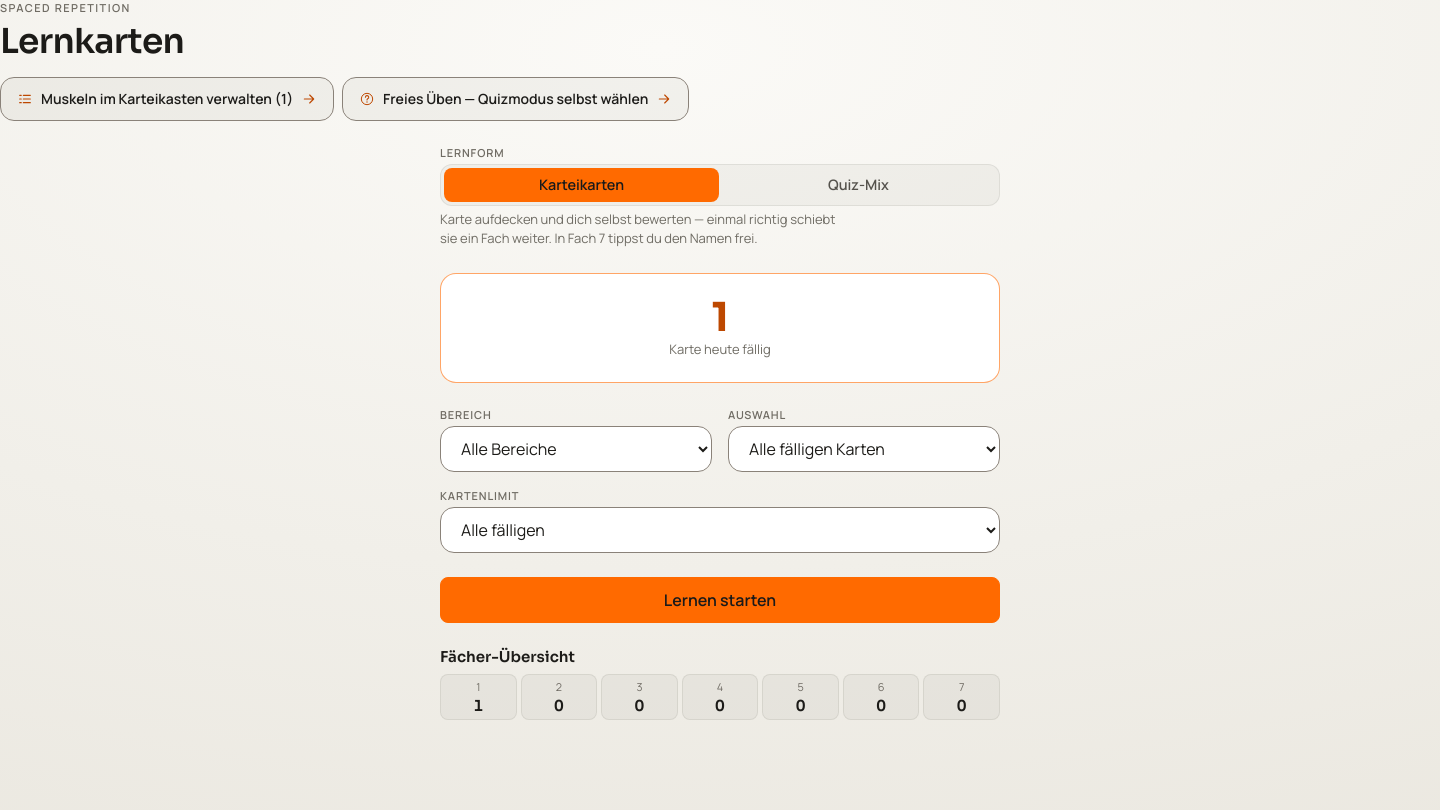
Test: Bild groß auf der Lernkarte › Vollansicht offen: eine Ziffer bewertet die Karte dahinter NICHT — nach dem Schließen wieder
Click the button "Lernen starten" at (720, 600), box [440,577,1000,623]
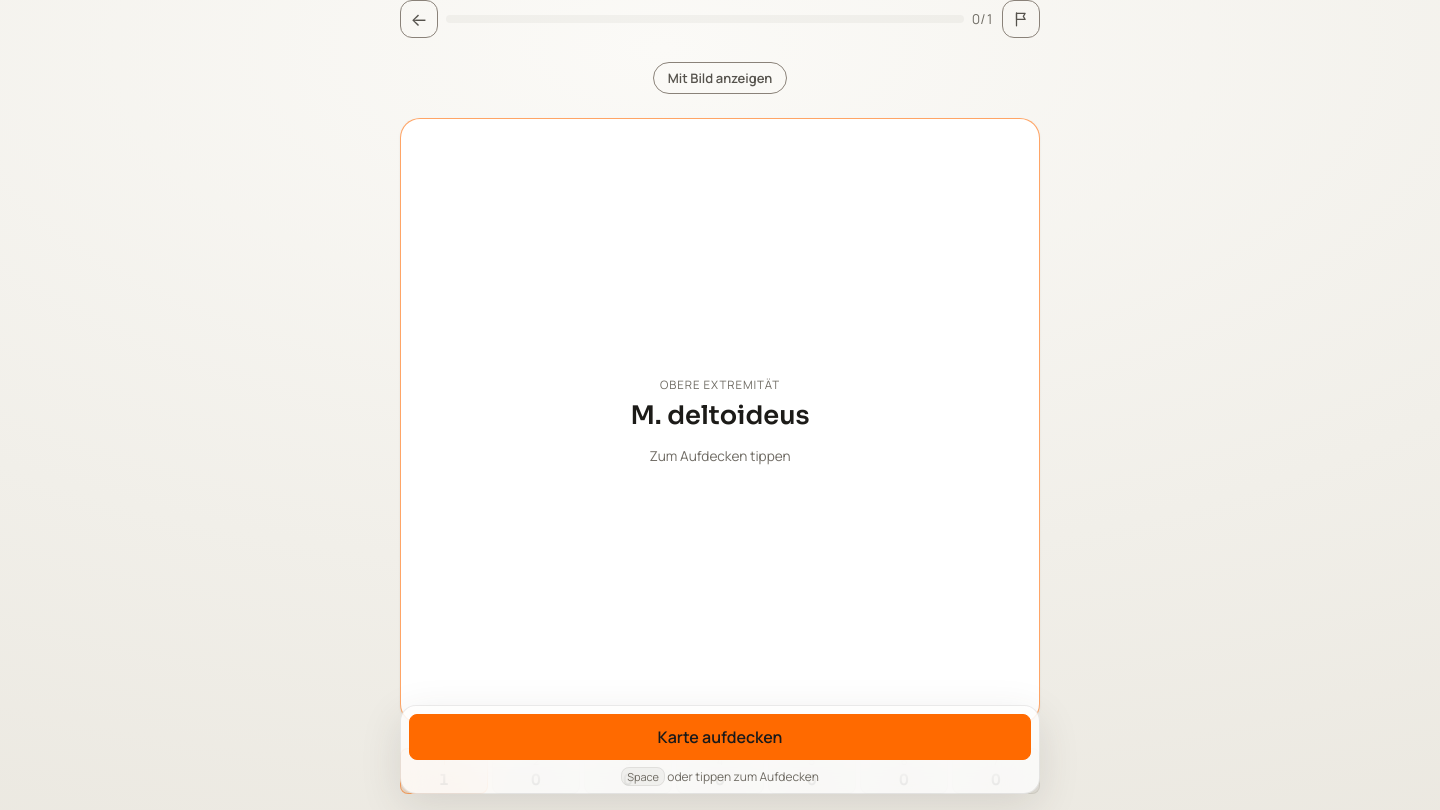
Click the button "Karte aufdecken" at (720, 737), box [409,714,1031,760]
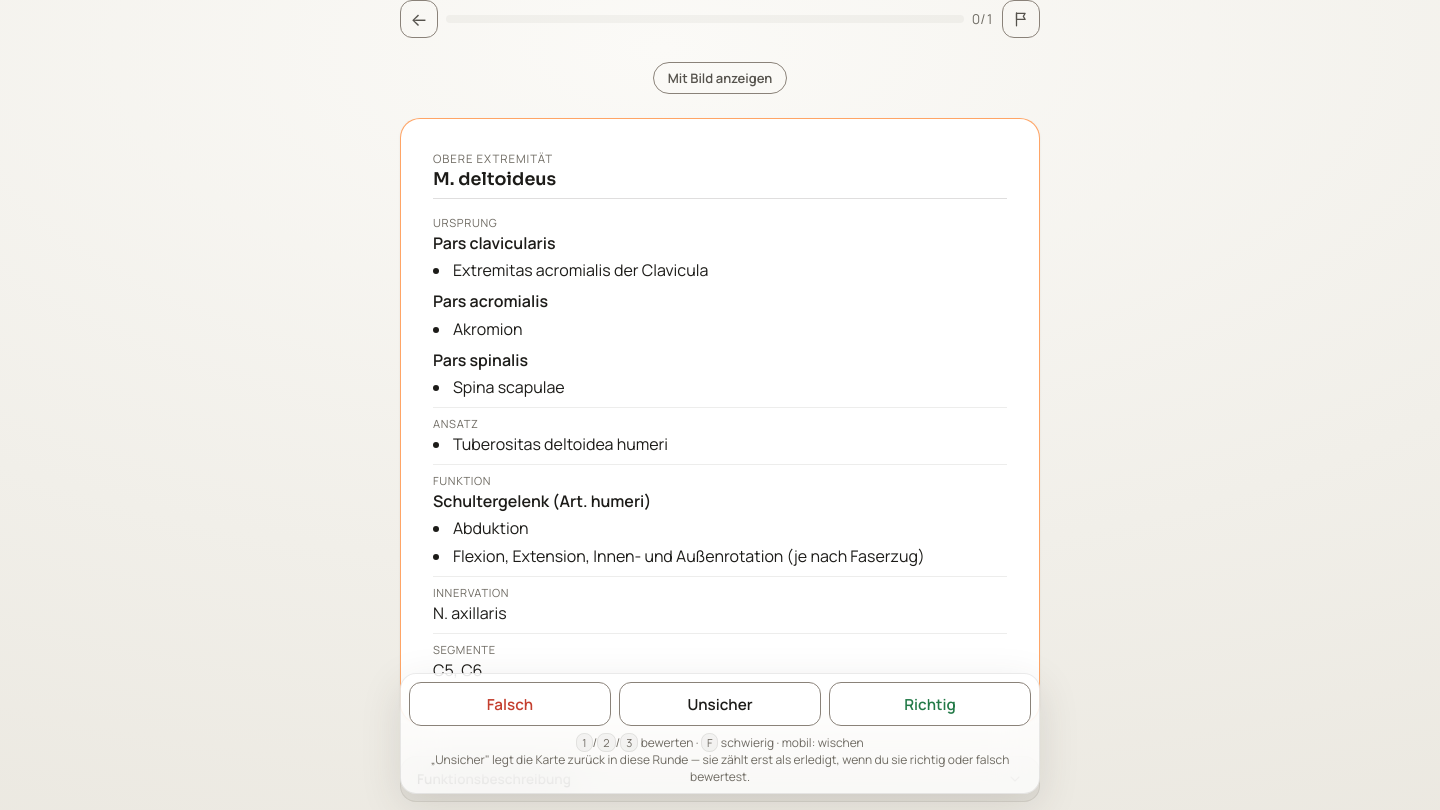
Click the button "Mit Bild anzeigen" at (720, 78), box [653,62,787,94]
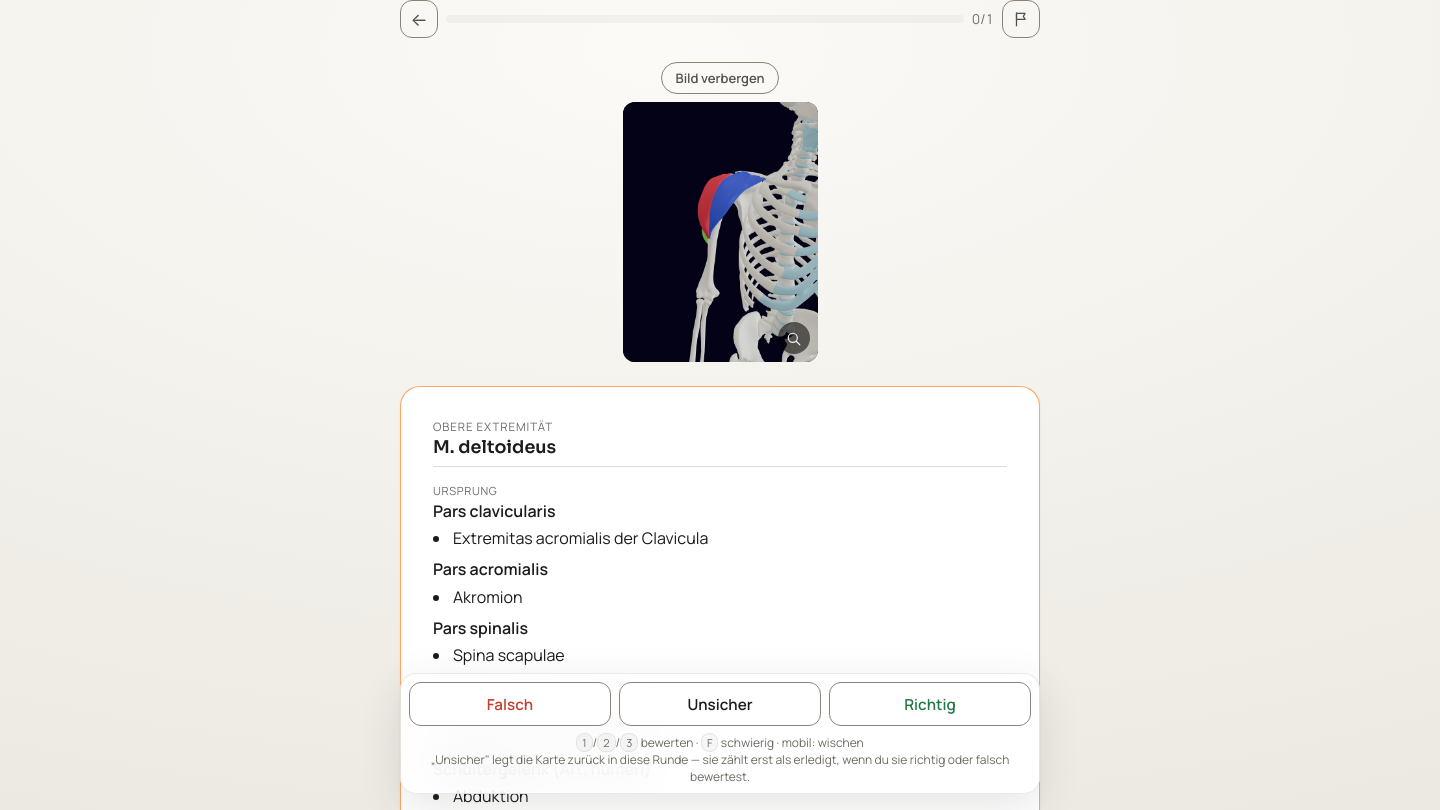
Click the button named "Bild groß anzeigen" at (720, 232), box [622,102,818,362]
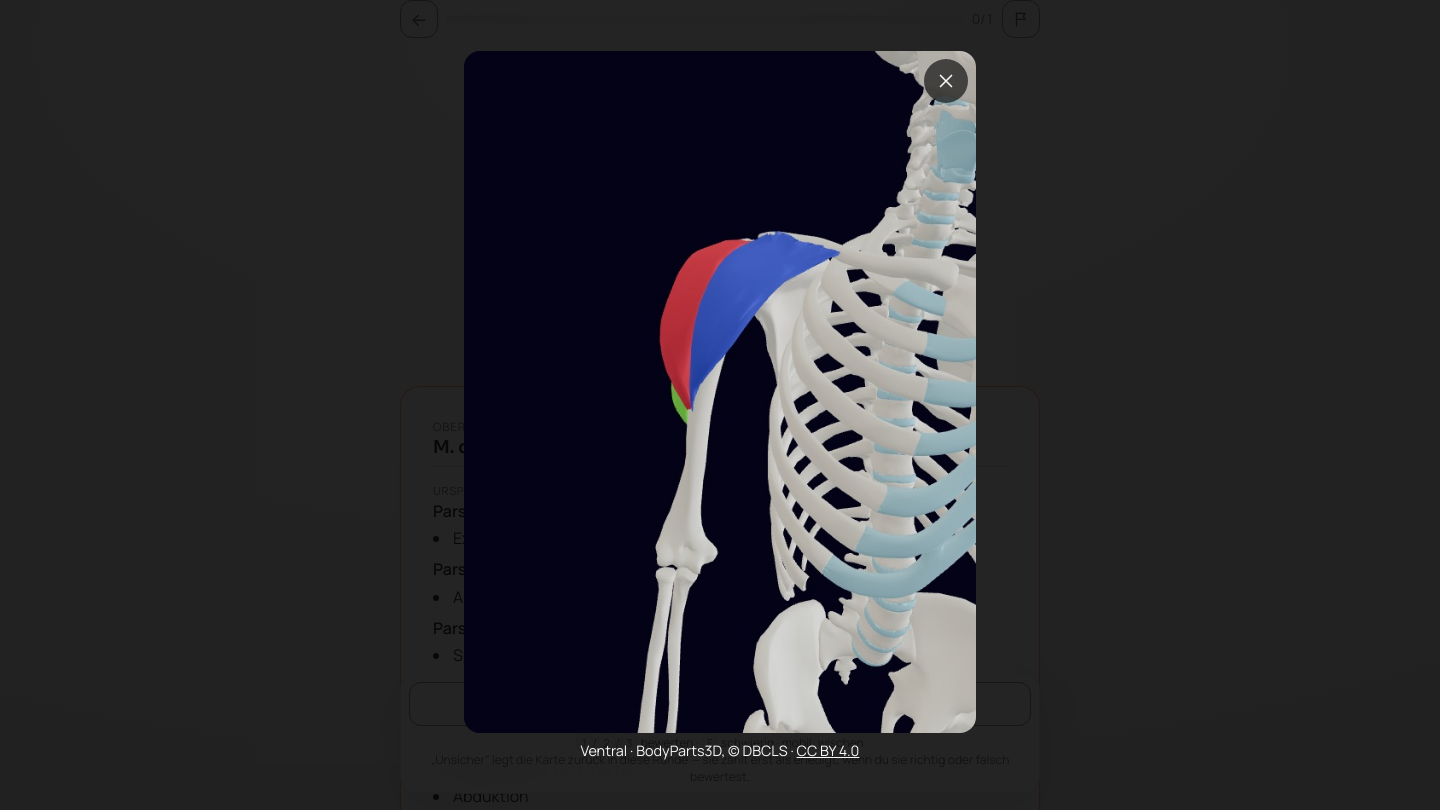
Expected: the dialog is shown, [464,50,976,760]
Press Escape
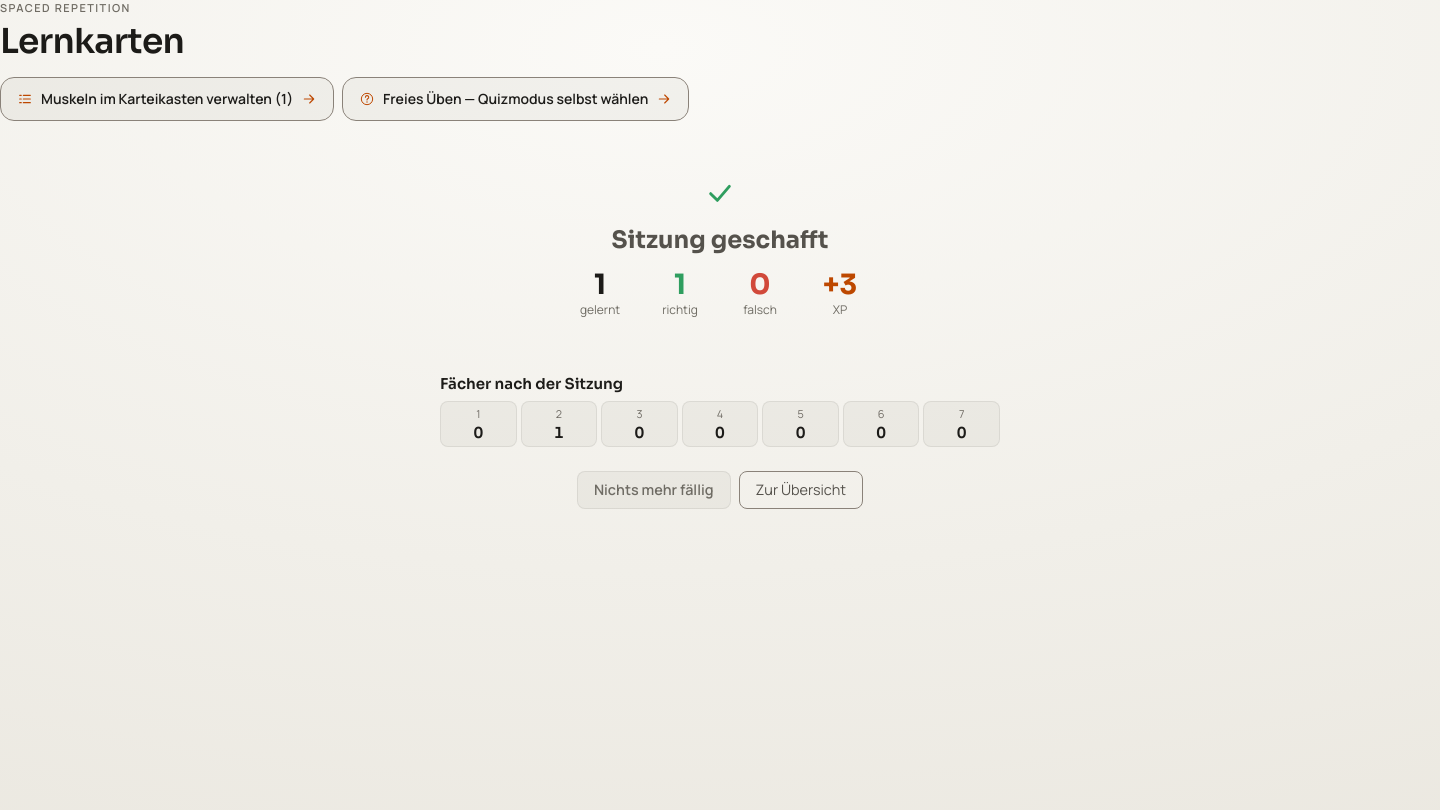
Expected: the dialog is gone
